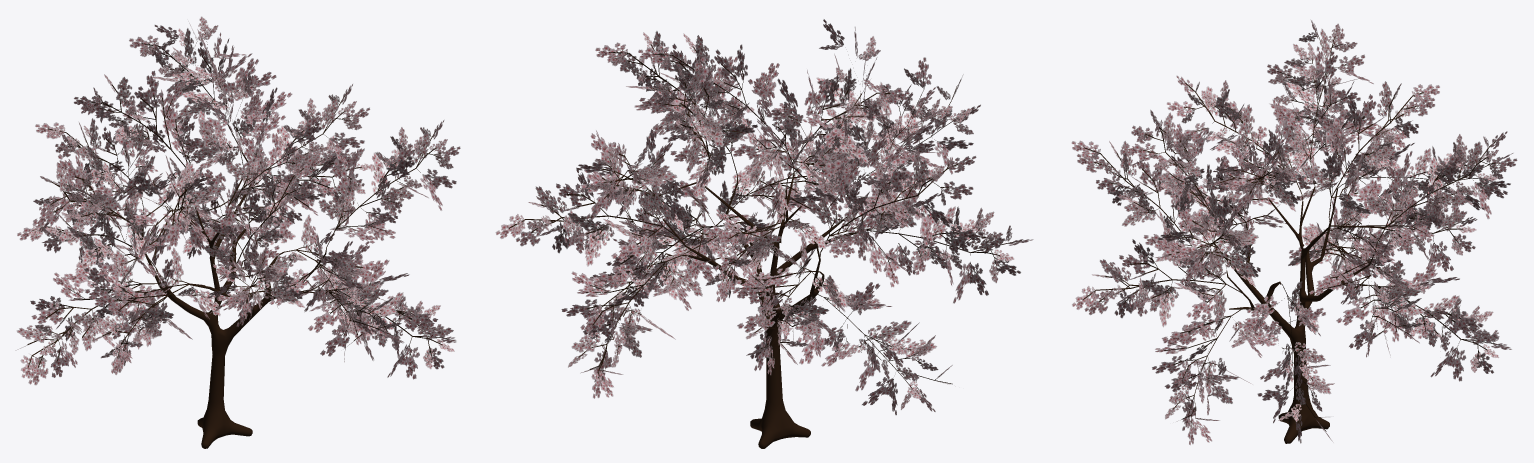
File: Arbol2.glb
3 renders of one model, left to right at view 1: azimuth 30°, elevation 25°; view 2: azimuth 150°, elevation 25°; view 3: azimuth 270°, elevation 25°, orthographic. The views are drawn at different scales.
Parts seen in each view (by area): view 1: tree_sakura; view 2: tree_sakura; view 3: tree_sakura.
Boxes of the visible parts, box(x1,y1,x2,y2) form: tree_sakura: box(15, 16, 460, 448); tree_sakura: box(495, 19, 1033, 448); tree_sakura: box(1071, 20, 1517, 445).
Size of the model in its own units: 9.58 by 8.75 by 9.77.
Materials: 4 (3 with a texture image).
